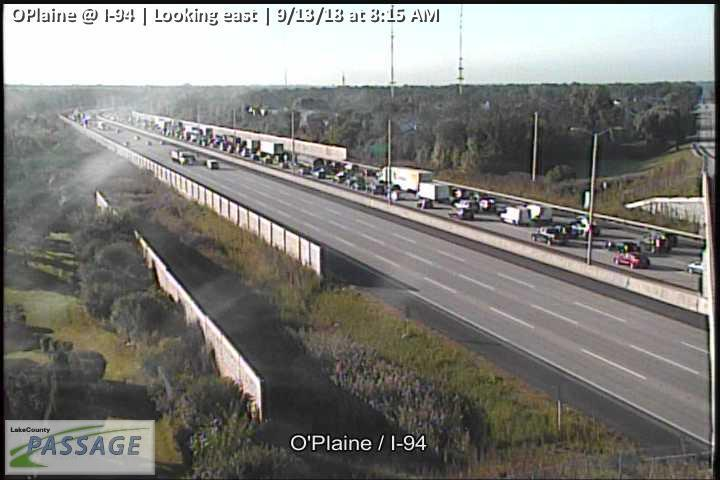SUV: (531, 226, 567, 244), (447, 207, 474, 221)
Sedan: (613, 253, 650, 268)
Truck: (375, 164, 433, 192), (500, 204, 532, 227), (417, 180, 450, 201), (522, 203, 552, 223)
